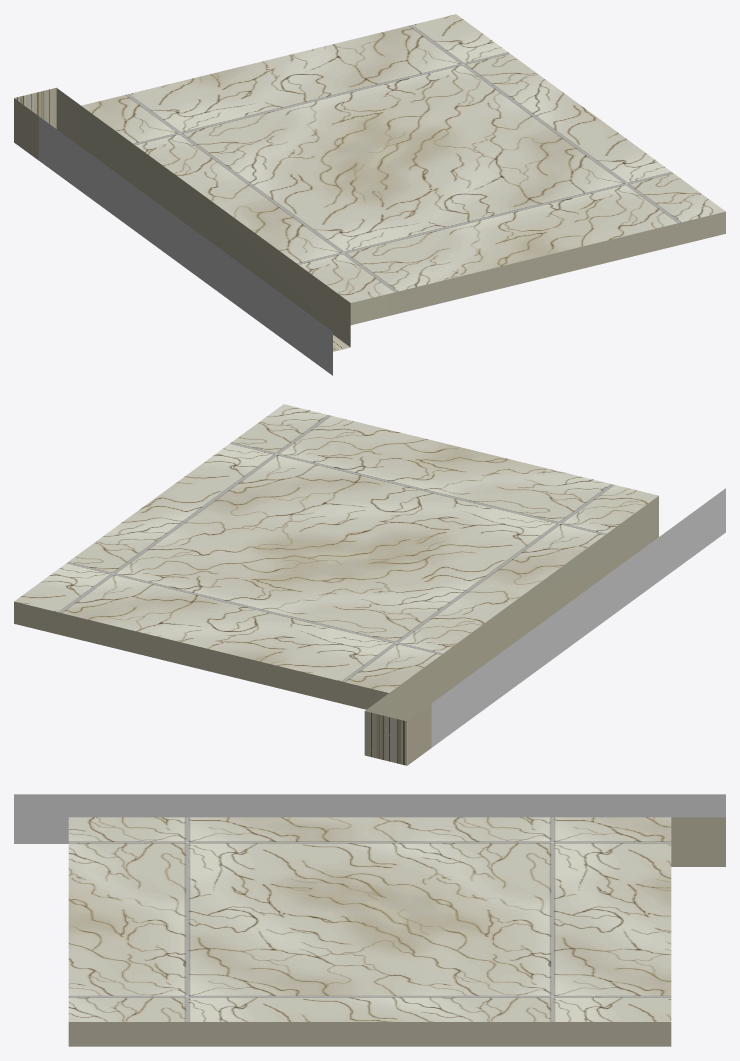
The model's file is FrontRight2ndFloor4.obj.
3 views of the same model, one above another, from view 1: azimuth 30°, elevation 25°; view 2: azimuth 150°, elevation 25°; view 3: azimuth 270°, elevation 25° (orthographic). The views are drawn at different scales.
Parts seen in each view (by area): view 1: Box011; view 2: Box011; view 3: Box011.
Part boxes in pixels (left/top/right/bottom): Box011: left=14, top=14, right=725, bottom=375; Box011: left=14, top=404, right=725, bottom=765; Box011: left=14, top=794, right=725, bottom=1046.
Size of the model in its own units: 116 by 11.81 by 154.
